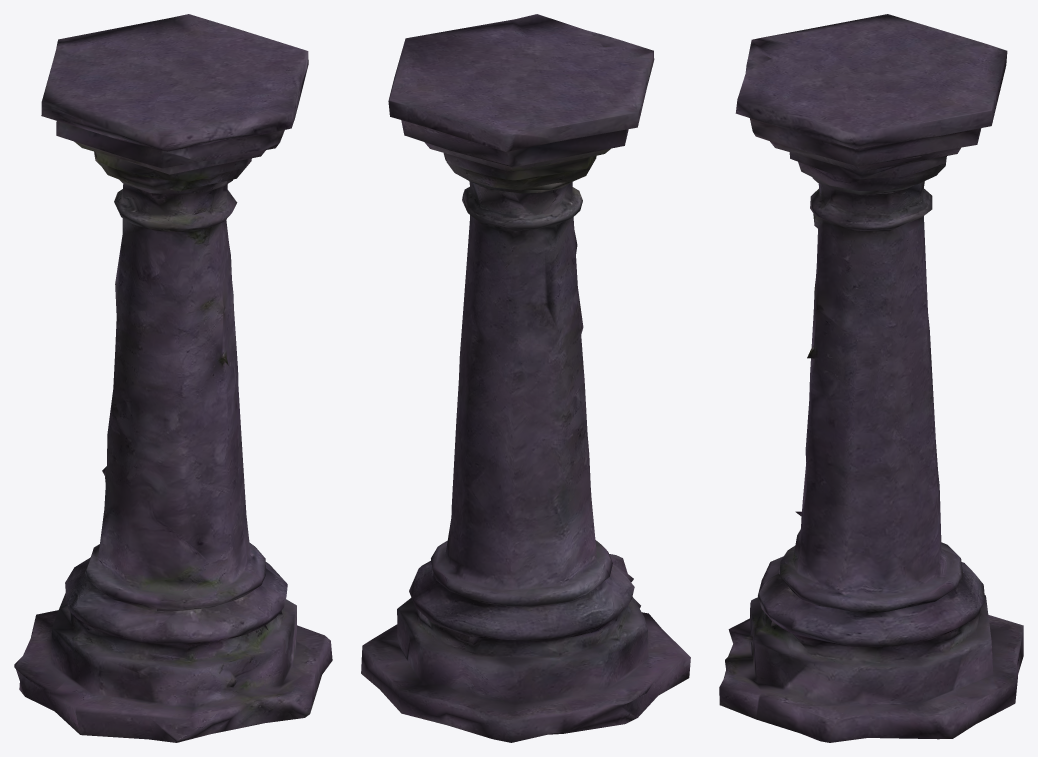
The model's file is level1-gothic-column.glb.
The picture shows the model from 3 angles, left to right: view 1: azimuth 30°, elevation 25°; view 2: azimuth 150°, elevation 25°; view 3: azimuth 270°, elevation 25°; orthographic projection.
Parts seen in each view (by area): view 1: tripo_node_964a83f8-1e3d-4b4c-80c6-69b4f1b73f19; view 2: tripo_node_964a83f8-1e3d-4b4c-80c6-69b4f1b73f19; view 3: tripo_node_964a83f8-1e3d-4b4c-80c6-69b4f1b73f19.
Part boxes in pixels (x1,y1,x2,y2): tripo_node_964a83f8-1e3d-4b4c-80c6-69b4f1b73f19: (14,14,332,742); tripo_node_964a83f8-1e3d-4b4c-80c6-69b4f1b73f19: (361,14,690,742); tripo_node_964a83f8-1e3d-4b4c-80c6-69b4f1b73f19: (719,14,1023,742).
Size of the model in its own units: 2.02 by 4.35 by 1.98.
1 material, 1 textured.
